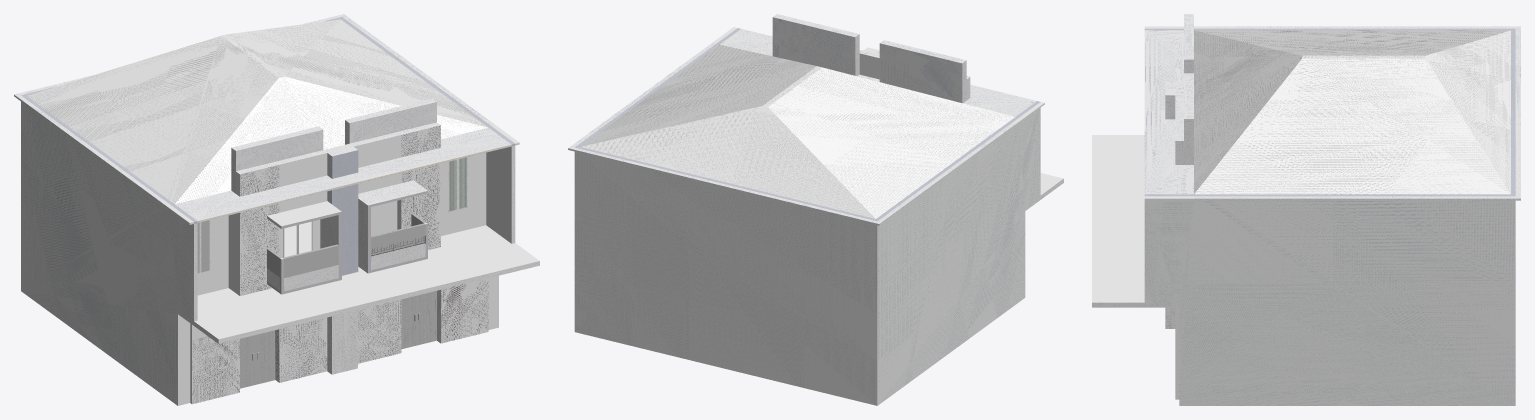
Rendered from ruko1.fbx.
3 renders of one model, left to right at view 1: azimuth 30°, elevation 25°; view 2: azimuth 150°, elevation 25°; view 3: azimuth 270°, elevation 25°, orthographic. The views are drawn at different scales.
Parts seen in each view (by area): view 1: SketchUp.078, SketchUp.001, SketchUp.018, SketchUp.003, SketchUp.021, SketchUp.024, SketchUp.011, SketchUp.012, SketchUp.009, SketchUp.008, SketchUp.028, SketchUp.055 (+17 smaller); view 2: SketchUp.001, SketchUp.078, SketchUp.003, SketchUp.055, SketchUp.018; view 3: SketchUp.001, SketchUp.078, SketchUp.018, SketchUp.003, SketchUp.055, SketchUp.006.
Part boxes in pixels (x1=…): SketchUp.078: x1=21, y1=17, x2=514, y2=221; SketchUp.001: x1=21, y1=101, x2=539, y2=405; SketchUp.018: x1=194, y1=146, x2=539, y2=339; SketchUp.003: x1=175, y1=98, x2=511, y2=343; SketchUp.021: x1=240, y1=165, x2=279, y2=295; SketchUp.024: x1=401, y1=125, x2=440, y2=250; SketchUp.011: x1=275, y1=317, x2=327, y2=382; SketchUp.012: x1=192, y1=336, x2=239, y2=404; SketchUp.009: x1=441, y1=278, x2=488, y2=343; SketchUp.008: x1=358, y1=299, x2=401, y2=363; SketchUp.028: x1=332, y1=150, x2=358, y2=275; SketchUp.055: x1=14, y1=14, x2=495, y2=202; SketchUp.001: x1=574, y1=108, x2=1063, y2=405; SketchUp.078: x1=575, y1=28, x2=1040, y2=221; SketchUp.003: x1=720, y1=14, x2=1036, y2=116; SketchUp.055: x1=568, y1=43, x2=1016, y2=225; SketchUp.018: x1=859, y1=53, x2=1063, y2=194; SketchUp.001: x1=1092, y1=200, x2=1515, y2=405; SketchUp.078: x1=1144, y1=28, x2=1515, y2=196; SketchUp.018: x1=1092, y1=135, x2=1144, y2=302; SketchUp.003: x1=1144, y1=14, x2=1193, y2=194; SketchUp.055: x1=1194, y1=26, x2=1520, y2=200; SketchUp.006: x1=1175, y1=307, x2=1179, y2=399.
Bounding box in the file's own units: 1335 × 957 × 1404.
